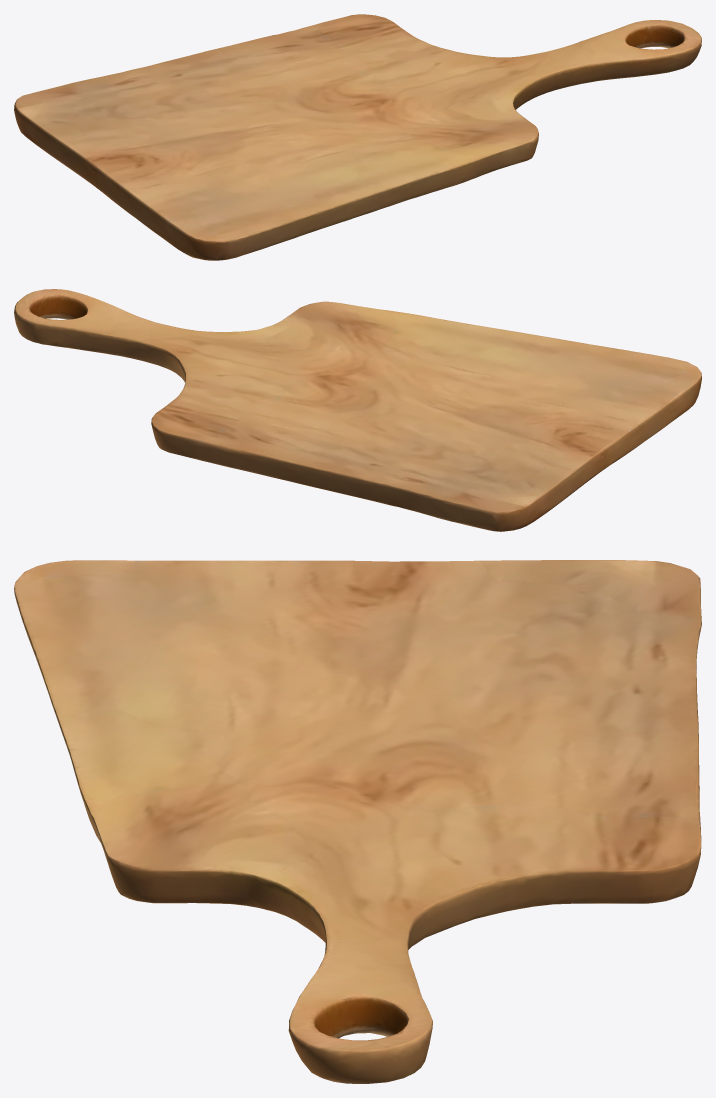
Rendered from pizzaPeelCleanT.glb.
The picture shows the model from 3 angles, top to bottom: view 1: azimuth 30°, elevation 25°; view 2: azimuth 150°, elevation 25°; view 3: azimuth 270°, elevation 25°; orthographic projection. The views are drawn at different scales.
Parts seen in each view (by area): view 1: model; view 2: model; view 3: model.
Boxes of the visible parts, left/top/right/bottom form: model: left=14, top=14, right=701, bottom=260; model: left=14, top=289, right=701, bottom=531; model: left=14, top=560, right=701, bottom=1083.
Bounding box in the file's own units: 1.89 × 0.0727 × 1.12.
Materials: 1 (1 with a texture image).
